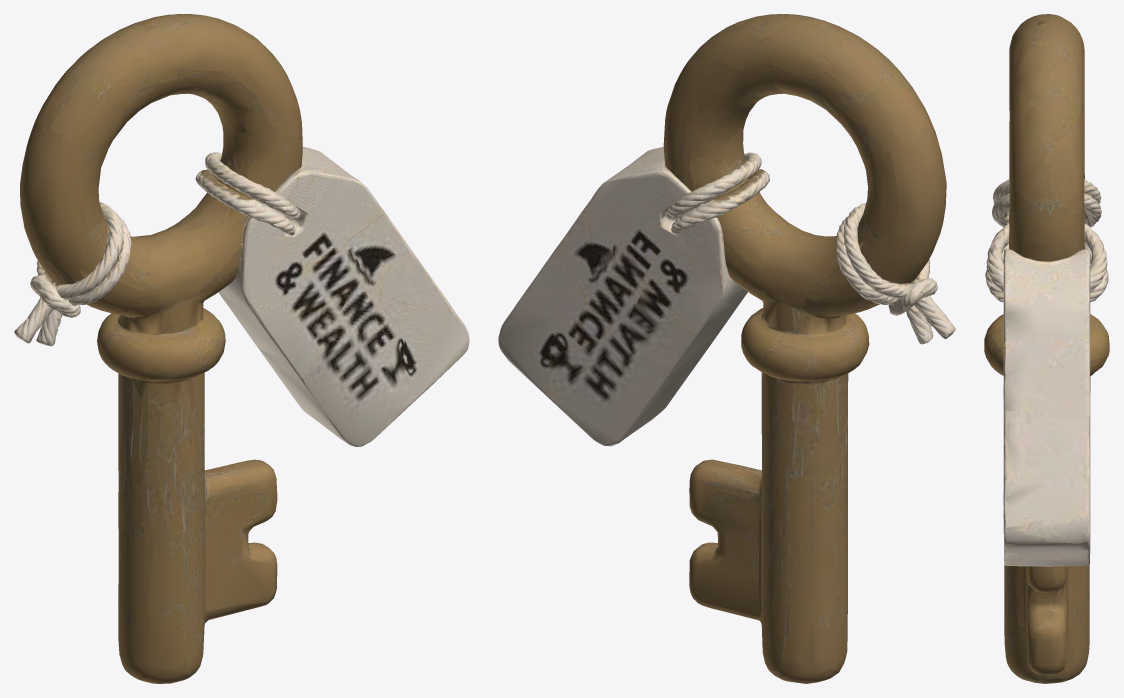
File: key-t1-v1.glb
3 renders of one model, left to right at view 1: azimuth 30°, elevation 25°; view 2: azimuth 150°, elevation 25°; view 3: azimuth 270°, elevation 25°, orthographic.
Visible parts, largest first — view 1: mesh_node; view 2: mesh_node; view 3: mesh_node.
Part boxes in pixels (x1,y1,x2,y2): mesh_node: [14, 14, 469, 683]; mesh_node: [498, 14, 955, 683]; mesh_node: [984, 14, 1109, 683].
Bounding box in the file's own units: 1.32 × 1.9 × 0.3347.
1 material, 1 textured.
